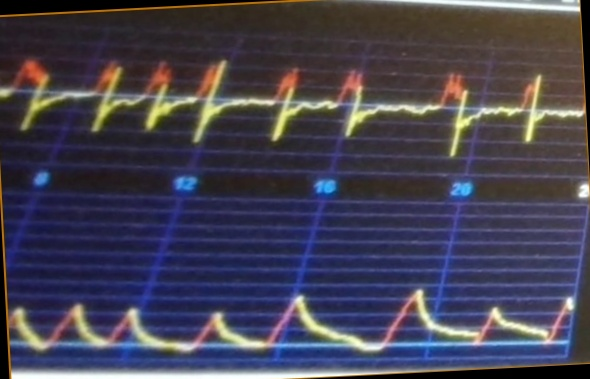Accumulation Flow: (1, 46, 576, 162)
Volume: (11, 262, 574, 361)
